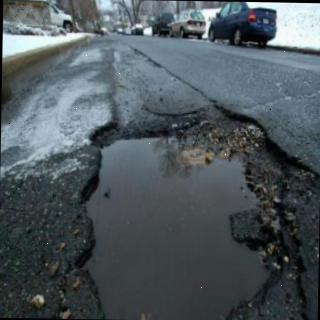pothole: (78, 106, 318, 320)
